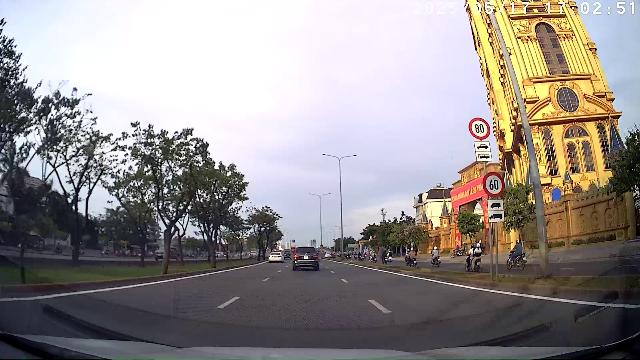127-toc-do-toi-da-60: (482, 171, 505, 197)
127-toc-do-toi-da-80: (469, 117, 491, 140)
